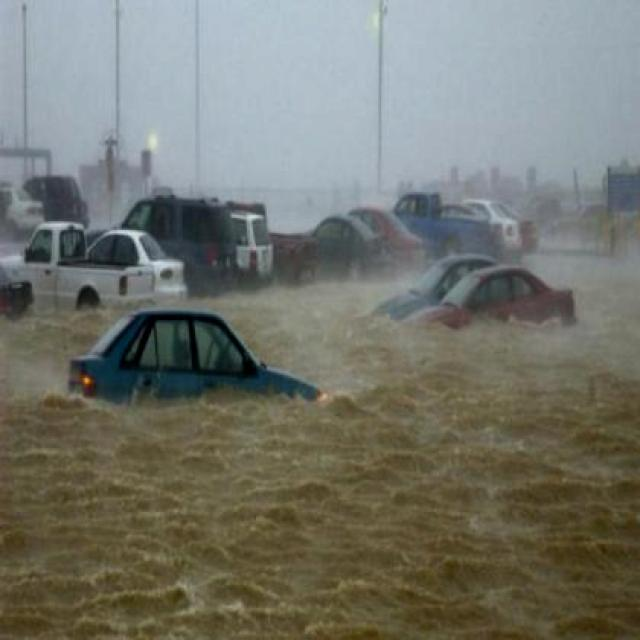water: (0, 252, 639, 636)
